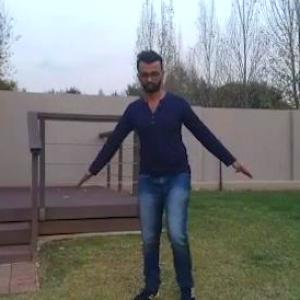land: (76, 49, 250, 299)
